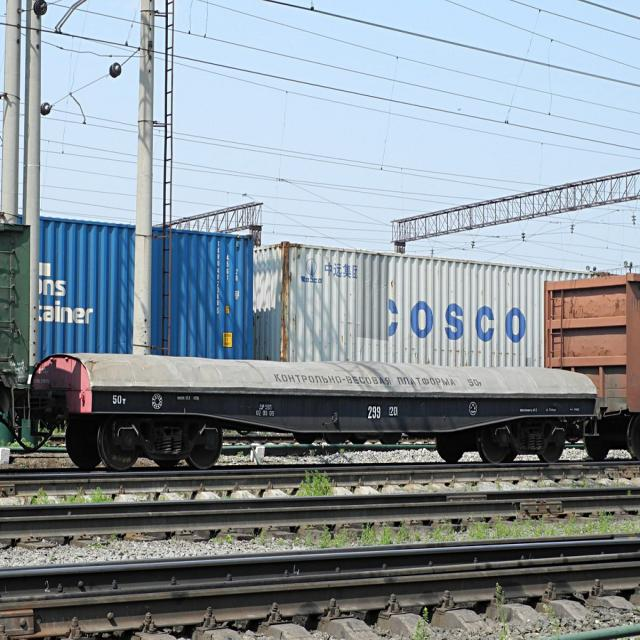cargo: (30, 350, 598, 396)
container: (256, 238, 582, 366), (38, 214, 256, 360)
flatcar: (31, 388, 602, 472)
gondola: (539, 269, 640, 463)
